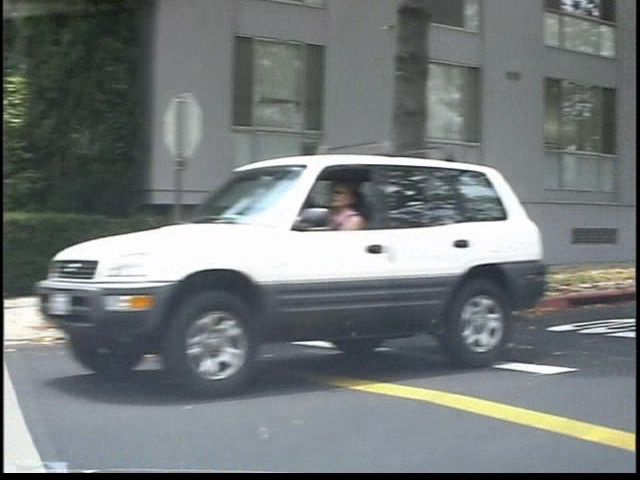person: (349, 174, 400, 373)
